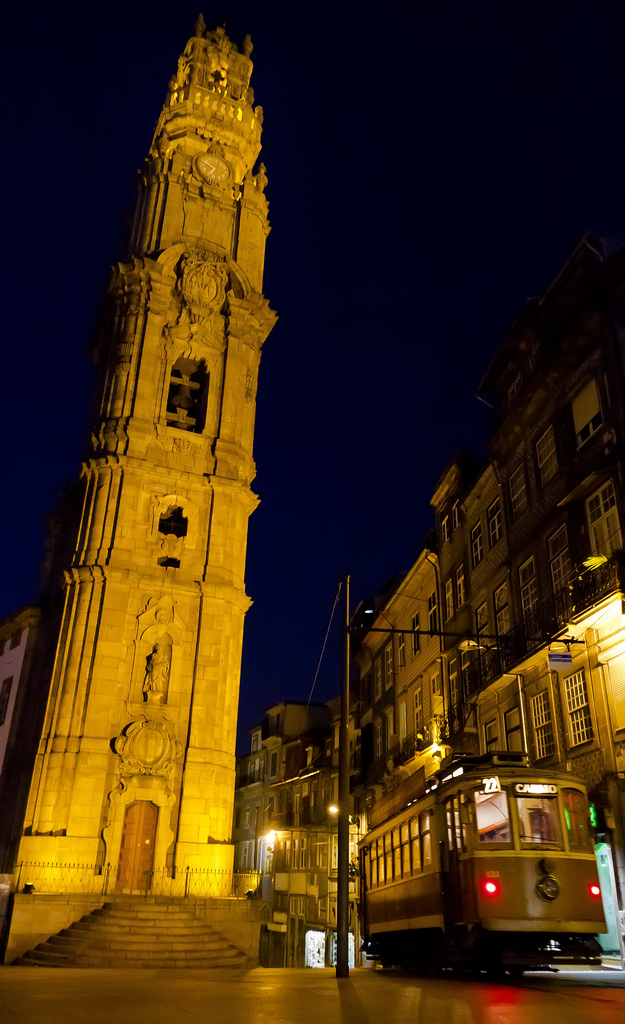clerigos: (0, 8, 281, 899)
